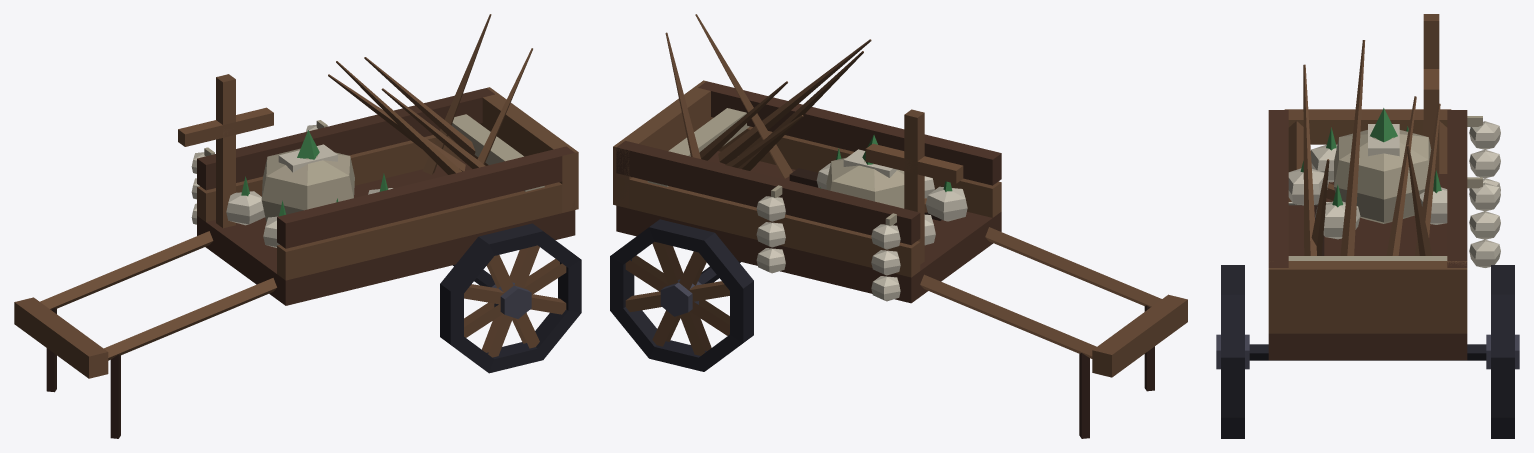
The model's file is Decor_VampireCrypt_Hunter.fbx.
3 views of the same model, side by side, from view 1: azimuth 30°, elevation 25°; view 2: azimuth 150°, elevation 25°; view 3: azimuth 270°, elevation 25° (orthographic). The views are drawn at different scales.
Visible parts, largest first — view 1: Hunter_Body; view 2: Hunter_Body; view 3: Hunter_Body.
Boxes of the visible parts, <box> form: Hunter_Body: <box>14,14,581,438</box>; Hunter_Body: <box>610,14,1187,438</box>; Hunter_Body: <box>1216,14,1519,438</box>.
Bounding box in the file's own units: 15.21 × 8.81 × 7.4.
